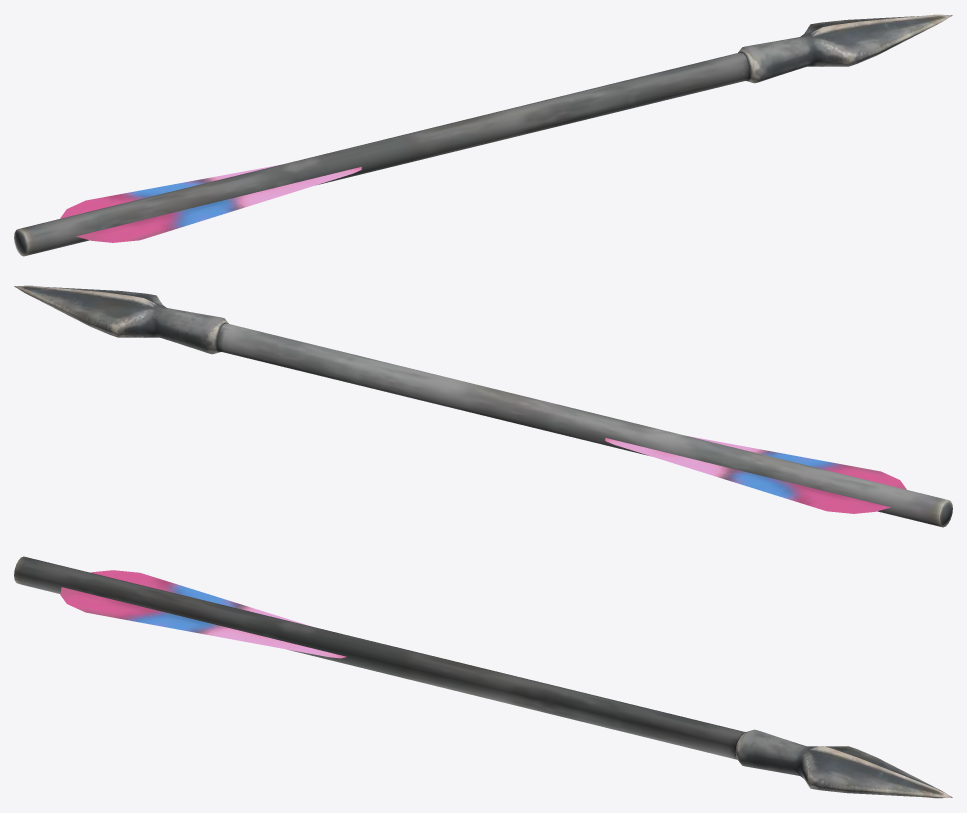
3 renders of one model, top to bottom at view 1: azimuth 30°, elevation 25°; view 2: azimuth 150°, elevation 25°; view 3: azimuth 330°, elevation 25°, orthographic.
Visible parts, largest first — view 1: SM_CrossbowBolt_Iron_01_LOD0; view 2: SM_CrossbowBolt_Iron_01_LOD0; view 3: SM_CrossbowBolt_Iron_01_LOD0.
Boxes of the visible parts, x1,y1,x2,y2 form: SM_CrossbowBolt_Iron_01_LOD0: (14,14,952,256); SM_CrossbowBolt_Iron_01_LOD0: (14,285,952,527); SM_CrossbowBolt_Iron_01_LOD0: (14,556,952,798).
Bounding box in the file's own units: 0.4573 × 0.0187 × 0.0462.
1 material, 1 textured.
